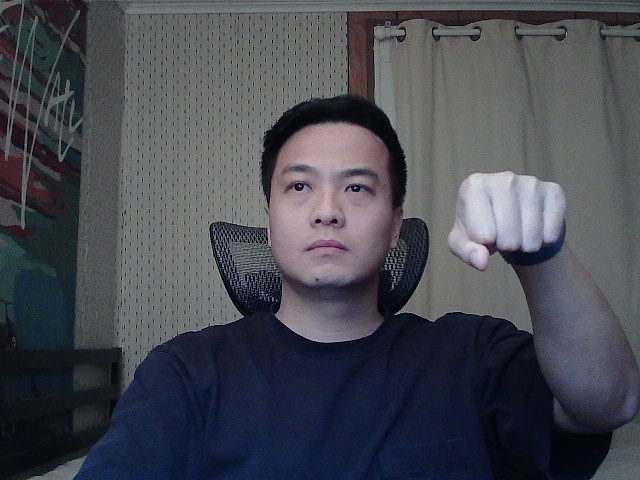Yes: (429, 166, 591, 273)
